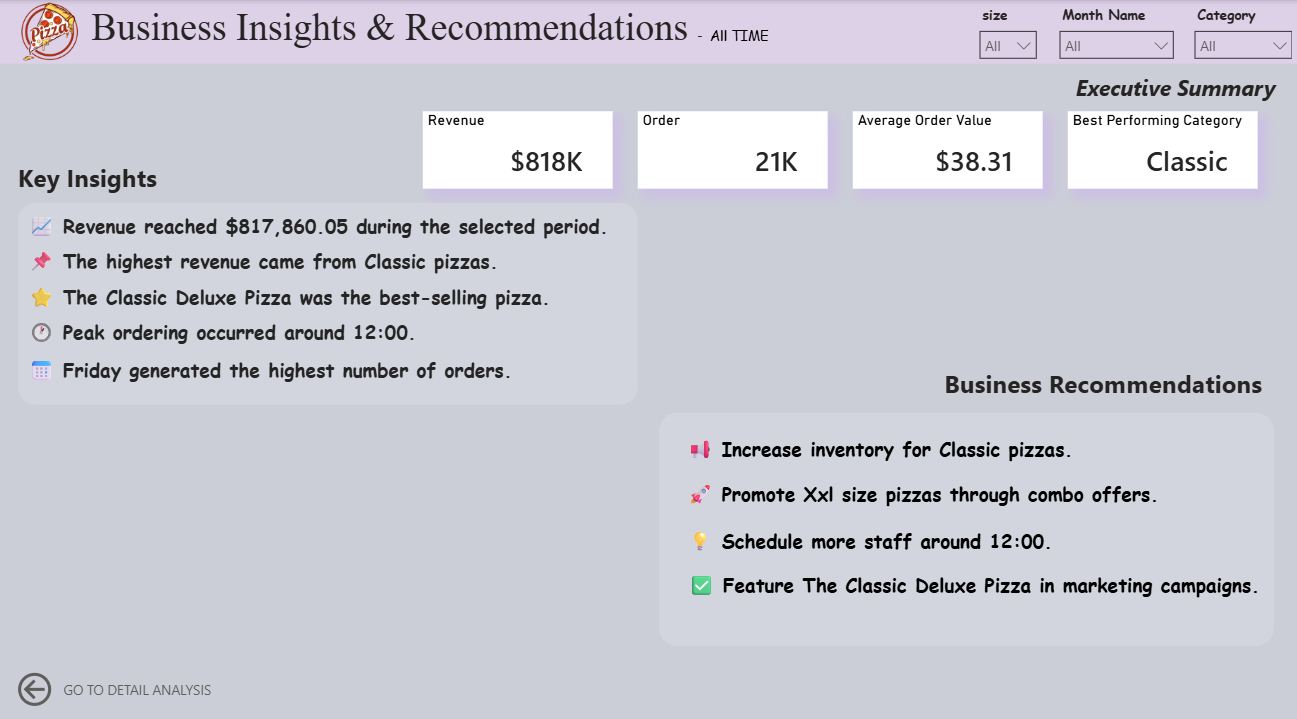

Layout of this report page (visuals, bound fields, positions):
{"tool":"powerbi","page":{"name":"Business Insights","canvas":[1280,720],"ordinal":1},"visuals":[{"type":"shape","box":[0,0,1279.8,62.6],"z":0},{"type":"image","box":[0,0,99.5,62.2],"z":1000},{"type":"textbox","box":[0,0,781.2,62.2],"z":2000},{"type":"textbox","box":[1027,66.3,236.8,42.9],"z":3000},{"type":"cardVisual","title":"Revenue","fields":{"Data":["measuress.Total Revenue"]},"box":[416,109.2,186.5,76.1],"z":4000},{"type":"cardVisual","title":"Order","fields":{"Data":["measuress.Total Orders"]},"box":[627,109.2,186.5,76.1],"z":5000},{"type":"cardVisual","title":"Average Order Value","fields":{"Data":["measuress.Average Order Value"]},"box":[838,109.2,186.5,76.1],"z":6000},{"type":"cardVisual","title":"Best Performing Category","fields":{"Data":["measuress.Top Category"]},"box":[1049.1,109.2,186.5,76.1],"z":7000},{"type":"cardVisual","fields":{"Data":["measuress.insights Title"]},"box":[665,6.1,123.9,56.4],"z":8000},{"type":"slicer","fields":{"Values":["orders.Month Name"]},"box":[1030.7,0,132.5,60.1],"z":9000},{"type":"slicer","fields":{"Values":["pizzas.size"]},"box":[952.2,0,76.1,60.1],"z":10000},{"type":"slicer","fields":{"Values":["pizza_types.Category"]},"box":[1163.2,0,116.6,62.6],"z":11000},{"type":"cardVisual","fields":{"Data":["measuress.Insight Pizza"]},"box":[0,256.4,692,68.7],"z":12000},{"type":"cardVisual","fields":{"Data":["measuress.Insight Day"]},"box":[0,325.2,692,72.4],"z":13000},{"type":"cardVisual","fields":{"Data":["measuress.Insight Revenue"]},"box":[0,186.5,692,68.7],"z":14000},{"type":"cardVisual","fields":{"Data":["measuress.Insight Category"]},"box":[0,220.9,692,68.7],"z":15000},{"type":"cardVisual","fields":{"Data":["measuress.Insight Hour"]},"box":[0,290.8,692,68.7],"z":16000},{"type":"textbox","box":[13.5,153.4,198.8,45.4],"z":17000},{"type":"shape","box":[18.4,198.8,608.6,198.8],"z":18000},{"type":"textbox","box":[909.2,355.8,342.3,41.7],"z":19000},{"type":"shape","box":[647.9,404.9,603.7,229.4],"z":20000},{"type":"cardVisual","fields":{"Data":["measuress.Recommendation Category"]},"box":[646.6,404.9,633.1,68.7],"z":21000},{"type":"cardVisual","fields":{"Data":["measuress.Recommendation Size"]},"box":[646.6,449.1,633.1,68.7],"z":22000},{"type":"cardVisual","fields":{"Data":["measuress.Recommendation Time"]},"box":[646.6,495.7,633.1,68.7],"z":23000},{"type":"cardVisual","fields":{"Data":["measuress.Recommendation Pizza"]},"box":[647.9,538.7,631.9,68.7],"z":24000},{"type":"actionButton","box":[13.5,655.2,198.8,42.9],"z":25000}]}

Visuals, with their boxes in screenshot pixels (x1, y1, x2, y2), scaled from the page's 1280x720 canvas onto the 1297x719 screenshot:
shape: [left=0, top=0, right=1296, bottom=63]
image: [left=0, top=0, right=101, bottom=62]
textbox: [left=0, top=0, right=792, bottom=62]
textbox: [left=1041, top=66, right=1281, bottom=109]
"Revenue" cardVisual: [left=422, top=109, right=611, bottom=185]
"Order" cardVisual: [left=635, top=109, right=824, bottom=185]
"Average Order Value" cardVisual: [left=849, top=109, right=1038, bottom=185]
"Best Performing Category" cardVisual: [left=1063, top=109, right=1252, bottom=185]
cardVisual - measuress.insights Title: [left=674, top=6, right=799, bottom=62]
slicer - orders.Month Name: [left=1044, top=0, right=1179, bottom=60]
slicer - pizzas.size: [left=965, top=0, right=1042, bottom=60]
slicer - pizza_types.Category: [left=1179, top=0, right=1296, bottom=63]
cardVisual - measuress.Insight Pizza: [left=0, top=256, right=701, bottom=325]
cardVisual - measuress.Insight Day: [left=0, top=325, right=701, bottom=397]
cardVisual - measuress.Insight Revenue: [left=0, top=186, right=701, bottom=255]
cardVisual - measuress.Insight Category: [left=0, top=221, right=701, bottom=289]
cardVisual - measuress.Insight Hour: [left=0, top=290, right=701, bottom=359]
textbox: [left=14, top=153, right=215, bottom=199]
shape: [left=19, top=199, right=635, bottom=397]
textbox: [left=921, top=355, right=1268, bottom=397]
shape: [left=657, top=404, right=1268, bottom=633]
cardVisual - measuress.Recommendation Category: [left=655, top=404, right=1296, bottom=473]
cardVisual - measuress.Recommendation Size: [left=655, top=448, right=1296, bottom=517]
cardVisual - measuress.Recommendation Time: [left=655, top=495, right=1296, bottom=564]
cardVisual - measuress.Recommendation Pizza: [left=657, top=538, right=1296, bottom=607]
actionButton: [left=14, top=654, right=215, bottom=697]
